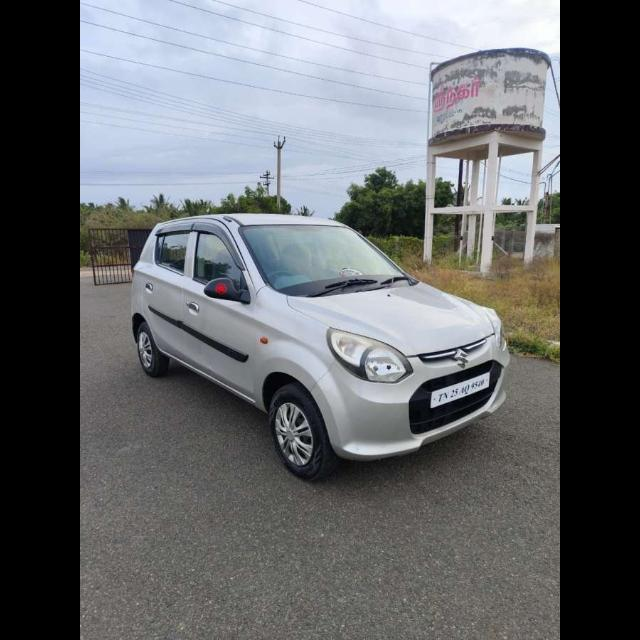vehicles: (122, 206, 514, 476)
